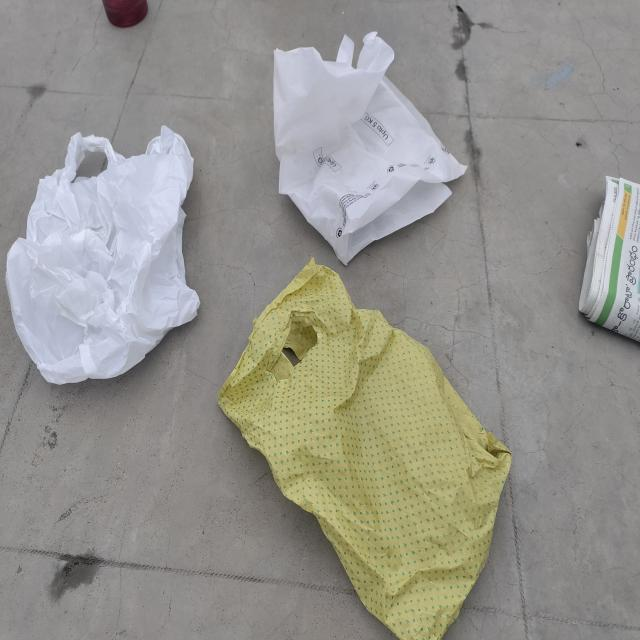paper: (561, 148, 640, 356)
plastic: (237, 259, 521, 635), (2, 111, 204, 394), (256, 27, 496, 255)
